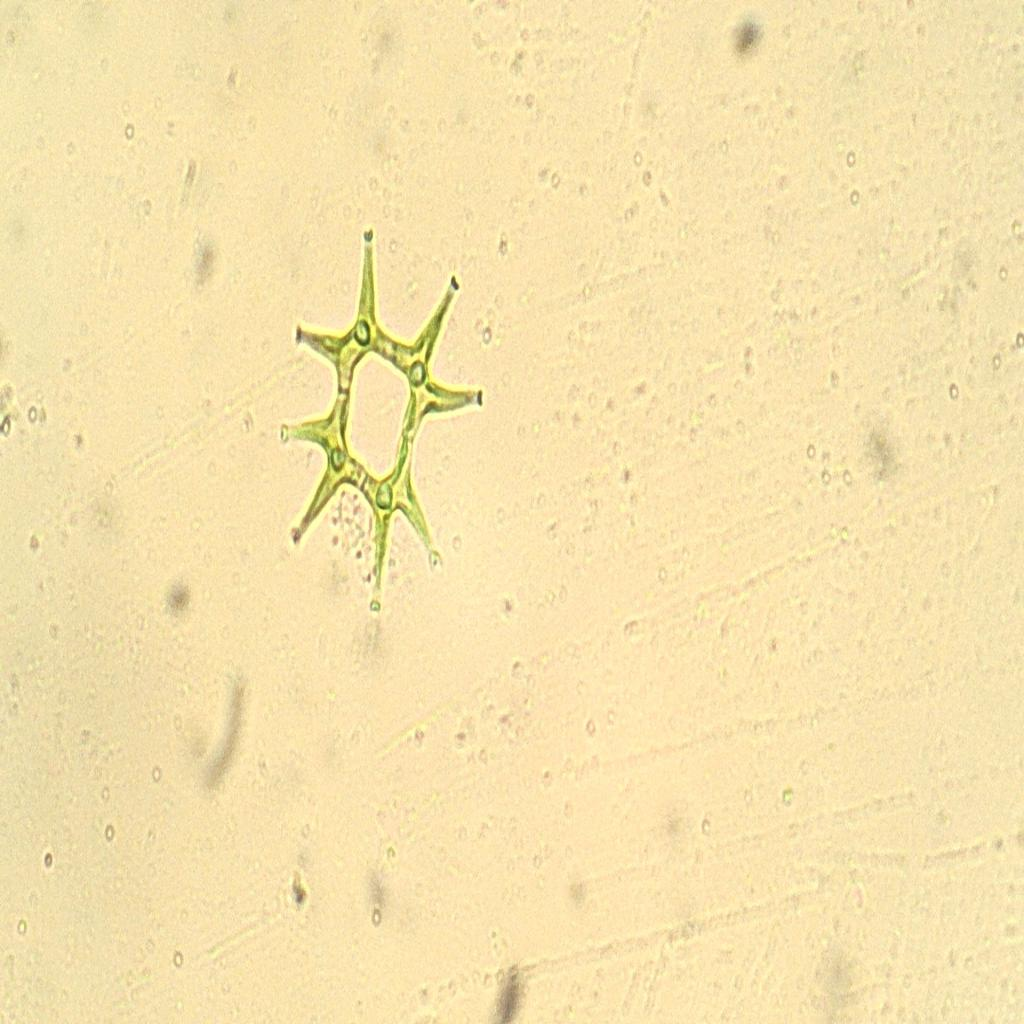Pediastrum_CO: (261, 218, 503, 628)
